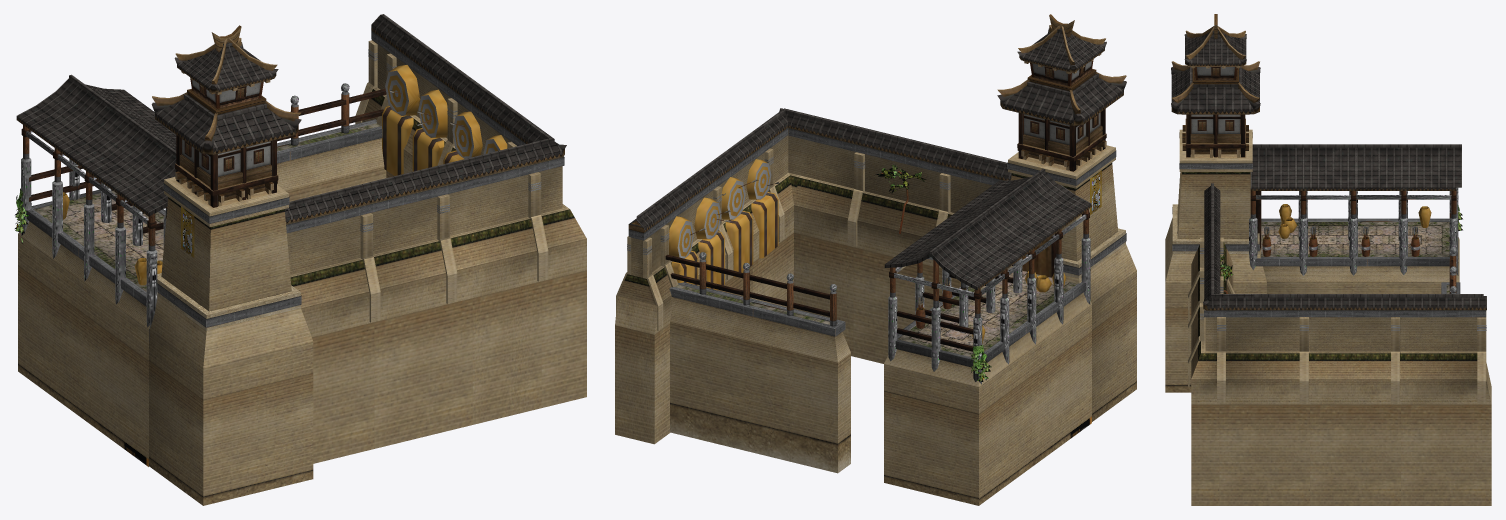
File: han_range.glb
3 views of the same model, side by side, from view 1: azimuth 30°, elevation 25°; view 2: azimuth 150°, elevation 25°; view 3: azimuth 270°, elevation 25° (orthographic). The views are drawn at different scales.
Visible parts, largest first — view 1: han_range_part0; view 2: han_range_part0, han_range_part1; view 3: han_range_part0.
Boxes of the visible parts, box(x1,y1,x2,y2) form: han_range_part0: box(16, 14, 586, 505); han_range_part0: box(615, 14, 1136, 505); han_range_part1: box(875, 165, 991, 387); han_range_part0: box(1165, 14, 1491, 505).
Bounding box in the file's own units: 3.8 × 3.88 × 3.26.
2 materials, 2 textured.
